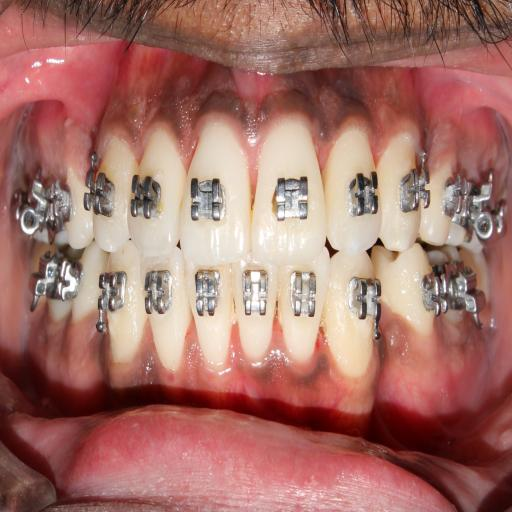correct_brace: (268, 171, 312, 230), (128, 161, 164, 232), (190, 169, 230, 230), (343, 166, 380, 220), (286, 267, 317, 323), (242, 266, 269, 320), (144, 265, 172, 314), (194, 270, 222, 317)
incorrect_brace: (324, 126, 382, 254), (127, 120, 181, 250), (143, 250, 192, 370), (281, 260, 330, 368)
